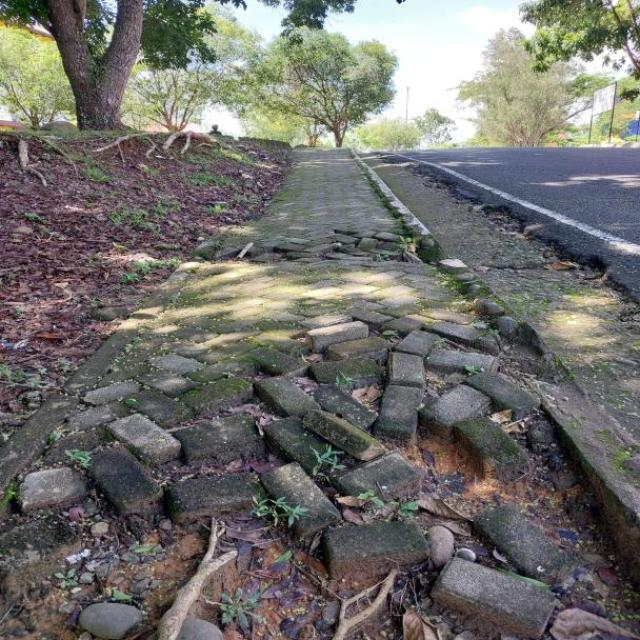stones ahead at: (34, 392, 621, 640)
